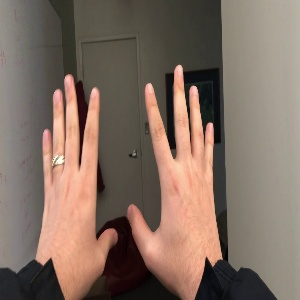hand: (127, 64, 223, 279), (36, 74, 118, 274)
